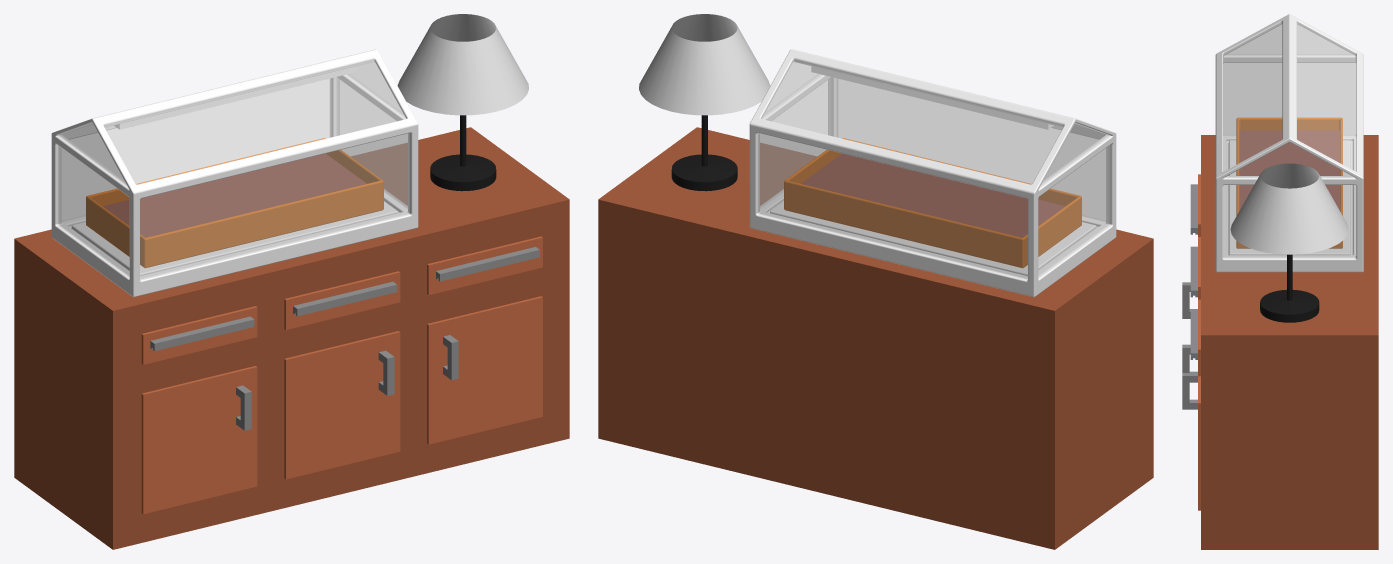
Rendered from Serre.glb.
The picture shows the model from 3 angles, left to right: view 1: azimuth 30°, elevation 25°; view 2: azimuth 150°, elevation 25°; view 3: azimuth 270°, elevation 25°; orthographic projection. The views are drawn at different scales.
Visible parts, largest first — view 1: Meuble, Serre, Pot, Lampe haut, Herbe, Lampe base, Lumière; view 2: Meuble, Serre, Pot, Lampe haut, Herbe, Lampe base, Lumière; view 3: Meuble, Serre, Lampe haut, Herbe, Lampe base, Pot.
Part boxes in pixels (bbox=[...]): Meuble: bbox=[14, 127, 569, 549]; Serre: bbox=[51, 49, 418, 297]; Pot: bbox=[86, 138, 383, 267]; Lampe haut: bbox=[397, 14, 528, 115]; Herbe: bbox=[103, 153, 366, 237]; Lampe base: bbox=[430, 115, 496, 191]; Lumière: bbox=[114, 66, 356, 129]; Meuble: bbox=[598, 127, 1153, 549]; Serre: bbox=[749, 49, 1116, 297]; Pot: bbox=[784, 138, 1081, 267]; Lampe haut: bbox=[639, 14, 770, 115]; Herbe: bbox=[801, 153, 1064, 237]; Lampe base: bbox=[671, 115, 737, 191]; Lumière: bbox=[811, 66, 1053, 129]; Meuble: bbox=[1182, 135, 1378, 549]; Serre: bbox=[1215, 14, 1363, 272]; Lampe haut: bbox=[1230, 163, 1348, 254]; Herbe: bbox=[1239, 130, 1339, 210]; Lampe base: bbox=[1260, 254, 1319, 322]; Pot: bbox=[1236, 117, 1342, 248].
Bounding box in the file's own units: 16 × 13 × 6.63.
